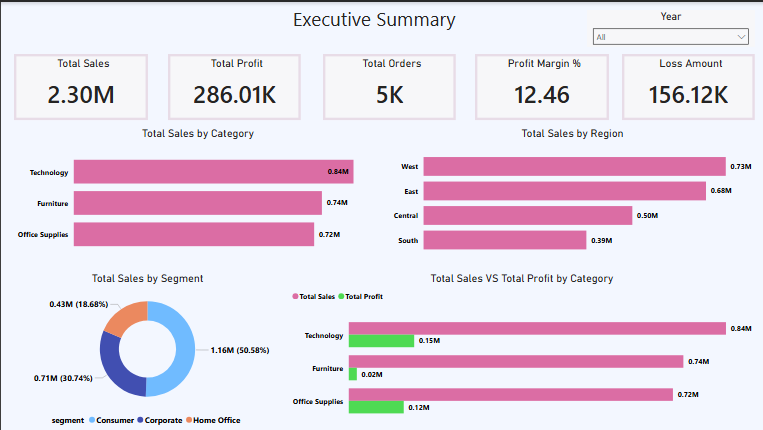

The dashboard page shown, as its layout file describes it:
{"tool":"powerbi","page":{"name":" Executive Summary","canvas":[1280,720],"ordinal":0},"visuals":[{"type":"cardVisual","title":"Total Sales","fields":{"Data":["fact_sales.Total Sales"]},"box":[21.8,87.3,225.1,110.9],"z":0},{"type":"cardVisual","title":"Total Profit","fields":{"Data":["fact_sales.Total Profit"]},"box":[280.5,87.3,223.4,110.9],"z":1000},{"type":"cardVisual","title":"Total Orders","fields":{"Data":["fact_sales.Total Orders"]},"box":[540.9,87.3,223.4,110.9],"z":2000},{"type":"cardVisual","title":"Profit Margin %","fields":{"Data":["fact_sales.Profit Margin %"]},"box":[796.2,87.3,225.1,110.9],"z":3000},{"type":"donutChart","title":"Total Sales by Segment","fields":{"Y":["fact_sales.Total Sales"],"Category":["dim_customer.segment"]},"box":[21.8,453.5,448.5,267.1],"z":4000},{"type":"barChart","title":"Total Sales by Region","fields":{"Category":["dim_location.region"],"Y":["fact_sales.Total Sales"]},"box":[653.4,210,613.1,228.5],"z":5000},{"type":"barChart","title":"Total Sales by Category","fields":{"Y":["fact_sales.Total Sales"],"Category":["dim_product.category"]},"box":[21.8,210,618.2,228.5],"z":6000},{"type":"textbox","box":[371.2,0,502.3,62.2],"z":7000},{"type":"cardVisual","title":"Loss Amount ","fields":{"Data":["fact_sales.Loss Amount"]},"box":[1043.1,87.3,223.4,110.9],"z":8000},{"type":"clusteredBarChart","title":"Total Sales VS Total Profit by Category","fields":{"Category":["dim_product.category"],"Y":["fact_sales.Total Sales","fact_sales.Total Profit"]},"box":[483.8,453.5,782.8,267.1],"z":9000},{"type":"slicer","title":"Year","fields":{"Values":["dim_date.year"]},"box":[984.4,13.4,282.2,62.2],"z":10000}]}

Visuals, with their boxes in screenshot pixels (x1, y1, x2, y2), scaled from the page's 1280x720 canvas onto the 763x430 screenshot:
"Total Sales" cardVisual: [x1=13, y1=52, x2=147, y2=118]
"Total Profit" cardVisual: [x1=167, y1=52, x2=300, y2=118]
"Total Orders" cardVisual: [x1=322, y1=52, x2=456, y2=118]
"Profit Margin %" cardVisual: [x1=475, y1=52, x2=609, y2=118]
"Total Sales by Segment" donutChart: [x1=13, y1=271, x2=280, y2=429]
"Total Sales by Region" barChart: [x1=389, y1=125, x2=755, y2=262]
"Total Sales by Category" barChart: [x1=13, y1=125, x2=382, y2=262]
textbox: [x1=221, y1=0, x2=521, y2=37]
"Loss Amount " cardVisual: [x1=622, y1=52, x2=755, y2=118]
"Total Sales VS Total Profit by Category" clusteredBarChart: [x1=288, y1=271, x2=755, y2=429]
"Year" slicer: [x1=587, y1=8, x2=755, y2=45]
